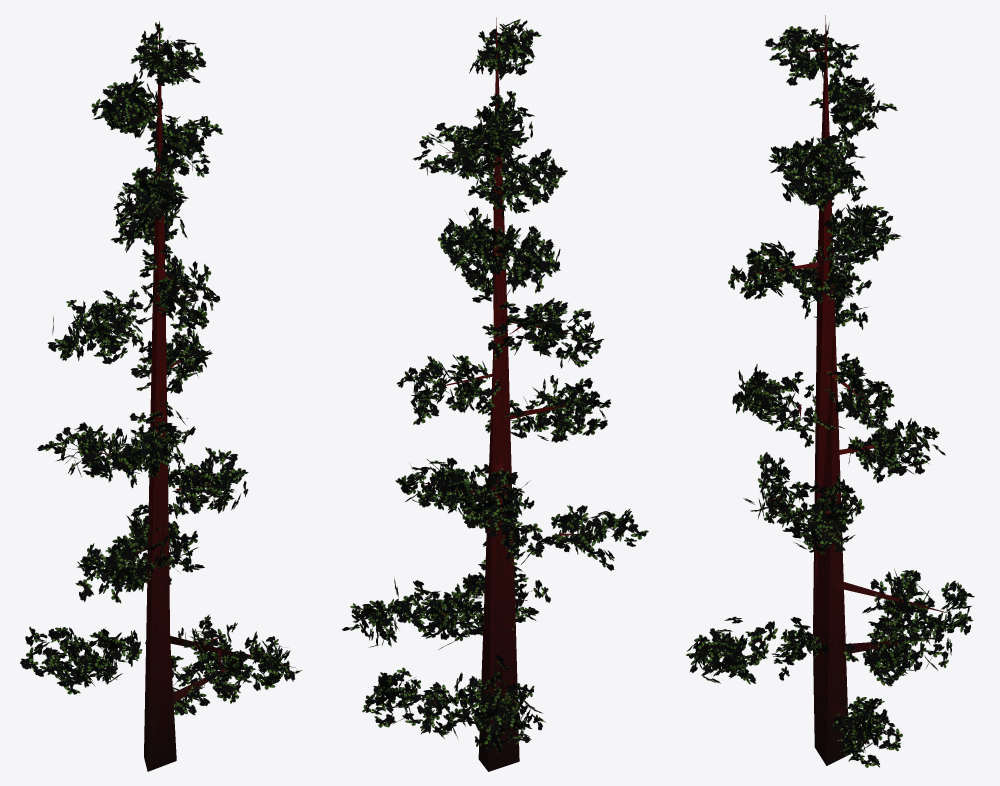
File: spruce_conifer_v01_LOD2.glb
The picture shows the model from 3 angles, left to right: view 1: azimuth 30°, elevation 25°; view 2: azimuth 150°, elevation 25°; view 3: azimuth 270°, elevation 25°; orthographic projection.
Visible parts, largest first — view 1: spruce_conifer_v01_LOD2; view 2: spruce_conifer_v01_LOD2; view 3: spruce_conifer_v01_LOD2.
Part boxes in pixels (x1,y1,x2,y2): spruce_conifer_v01_LOD2: (20,21,302,771); spruce_conifer_v01_LOD2: (342,17,648,771); spruce_conifer_v01_LOD2: (685,15,974,767).
Size of the model in its own units: 7.04 by 21.98 by 8.14.
2 materials, 2 textured.
